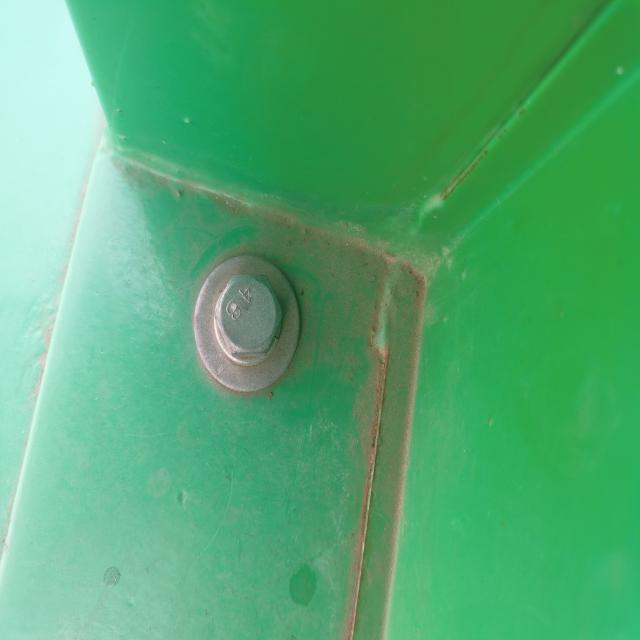bolt head: (213, 268, 285, 361)
